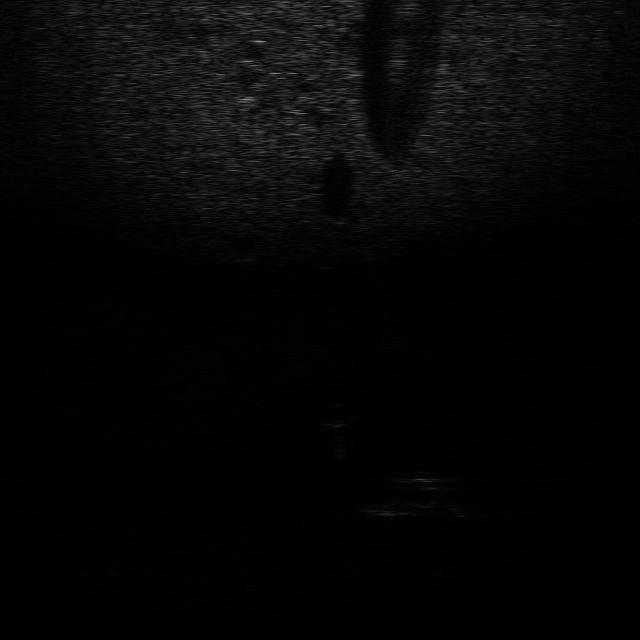ball: (311, 398, 359, 428)
tyre: (359, 469, 446, 519)
